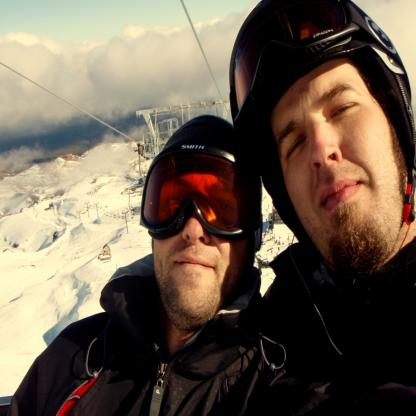Helmet: (240, 9, 406, 249), (138, 117, 259, 261)
